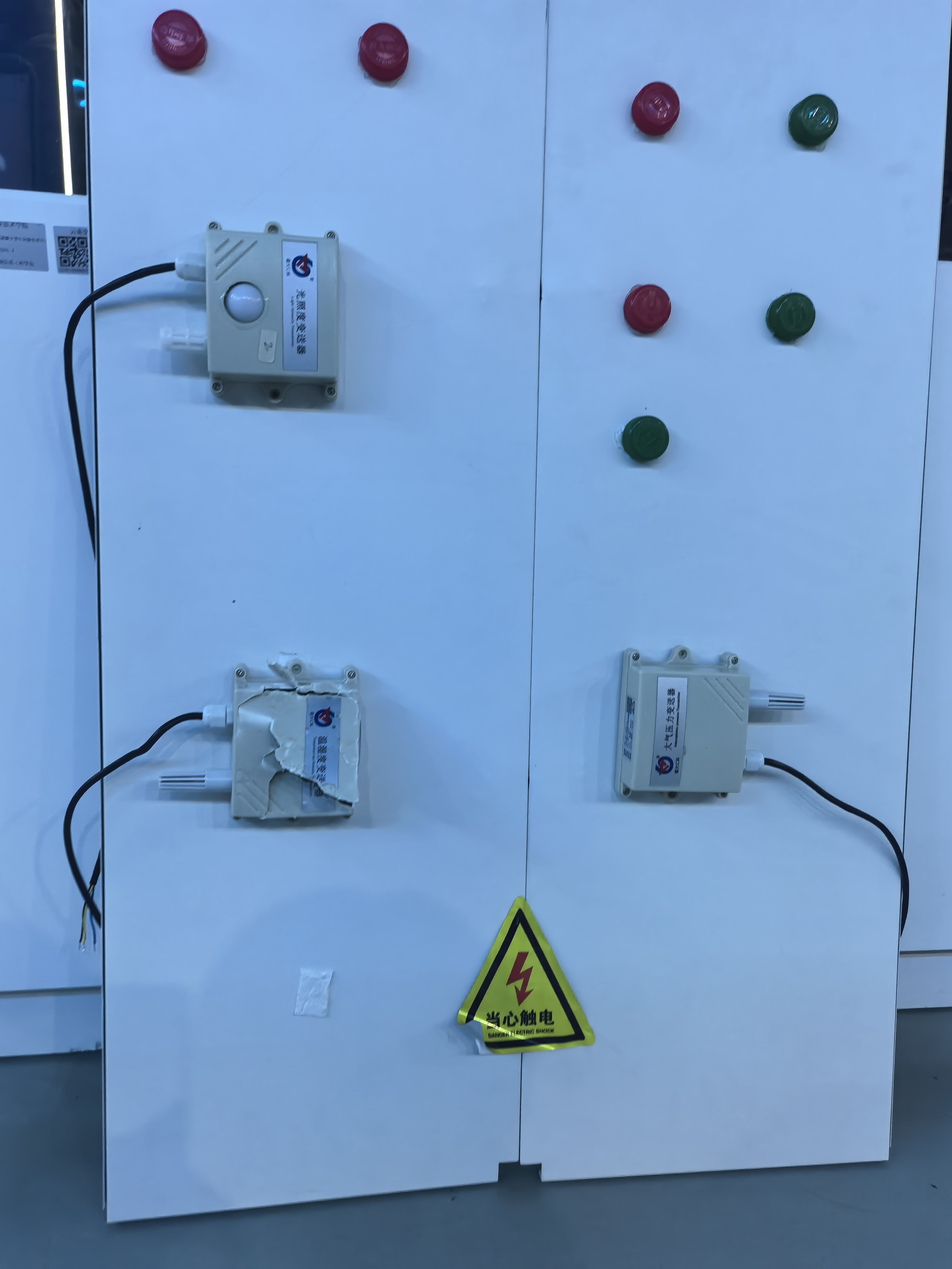red_warning: (617, 54, 701, 159), (337, 15, 430, 99), (139, 6, 221, 85), (612, 261, 681, 350)
sensor_damage: (137, 617, 436, 848)
